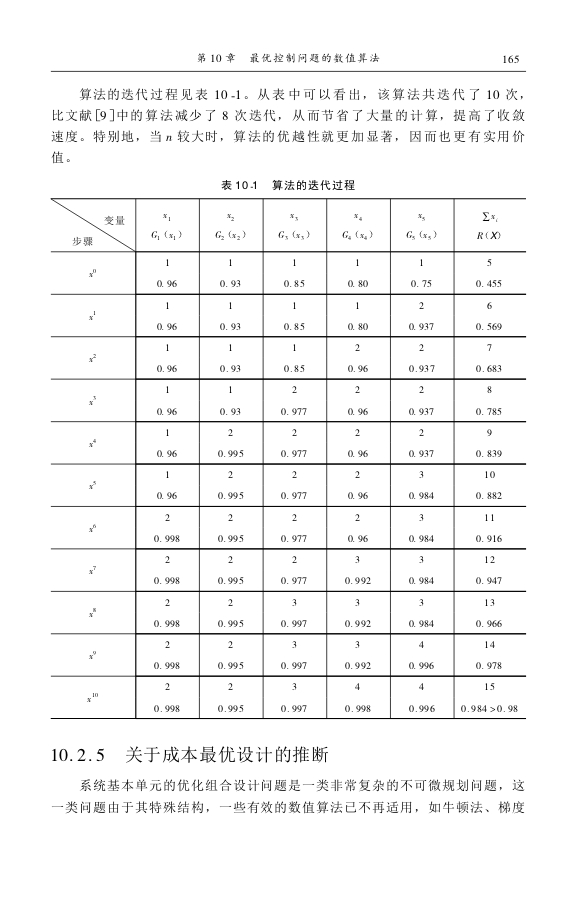table: (50, 198, 526, 718)
